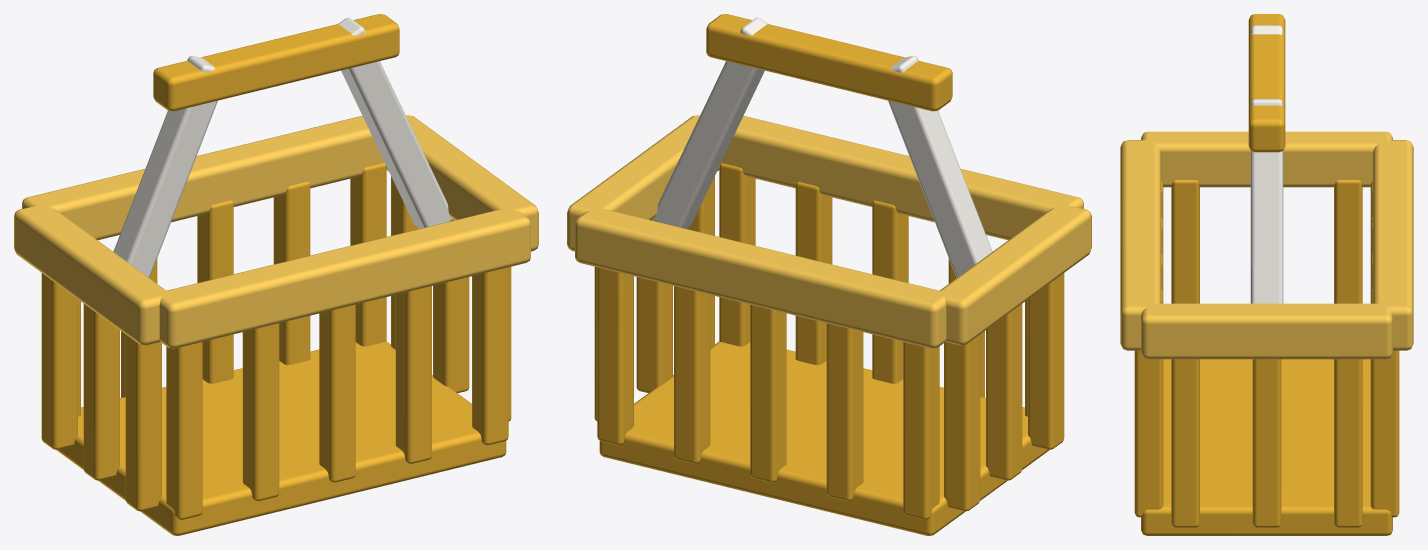
The model's file is mall-basket.glb.
The picture shows the model from 3 angles, left to right: view 1: azimuth 30°, elevation 25°; view 2: azimuth 150°, elevation 25°; view 3: azimuth 270°, elevation 25°; orthographic projection. The views are drawn at different scales.
Parts seen in each view (by area): view 1: bottom, rim-front, rim-back, handle-grip, rim-left, handle--0.31, handle-0.31, front-rail--0.21, front-rail--0.42, front-rail-0.42, front-rail-0, front-rail-0.21 (+10 smaller); view 2: bottom, rim-back, rim-front, handle-grip, rim-left, handle--0.31, handle-0.31, back-rail--0.21, back-rail--0.42, back-rail-0.42, back-rail-0, back-rail-0.21 (+10 smaller); view 3: bottom, rim-right, rim-left, rim-back, rim-front, handle-0.31, right-rail-0, right-rail--0.2, right-rail-0.2, handle-grip, front-rail-0.42, back-rail-0.42 (+2 smaller).
Boxes of the visible parts, x1,y1,x2,y2 form: bottom: [56, 342, 506, 535]; rim-front: [159, 208, 530, 348]; rim-back: [22, 115, 384, 240]; handle-grip: [153, 14, 399, 111]; rim-left: [14, 204, 166, 345]; handle--0.31: [113, 56, 217, 277]; handle-0.31: [338, 17, 453, 228]; front-rail--0.21: [242, 323, 279, 501]; front-rail--0.42: [166, 342, 202, 519]; front-rail-0.42: [472, 267, 508, 445]; front-rail-0: [319, 304, 355, 482]; front-rail-0.21: [395, 286, 431, 463]; bottom: [599, 342, 1049, 535]; rim-back: [575, 208, 946, 348]; rim-front: [721, 115, 1083, 240]; handle-grip: [706, 14, 952, 111]; rim-left: [939, 204, 1091, 345]; handle--0.31: [888, 56, 992, 277]; handle-0.31: [652, 17, 767, 228]; back-rail--0.21: [826, 323, 863, 501]; back-rail--0.42: [903, 342, 939, 519]; back-rail-0.42: [597, 267, 633, 445]; back-rail-0: [750, 304, 786, 482]; back-rail-0.21: [674, 286, 710, 463]; bottom: [1141, 359, 1392, 535]; rim-right: [1141, 303, 1392, 359]; rim-left: [1141, 131, 1392, 187]; rim-back: [1372, 140, 1413, 350]; rim-front: [1120, 140, 1161, 350]; handle-0.31: [1250, 99, 1283, 303]; right-rail-0: [1252, 359, 1281, 527]; right-rail--0.2: [1334, 359, 1362, 527]; right-rail-0.2: [1171, 359, 1199, 527]; handle-grip: [1248, 14, 1285, 152]; front-rail-0.42: [1134, 350, 1163, 517]; back-rail-0.42: [1370, 350, 1399, 517].
Bounding box in the file's own units: 1.1 × 1.08 × 0.72.
